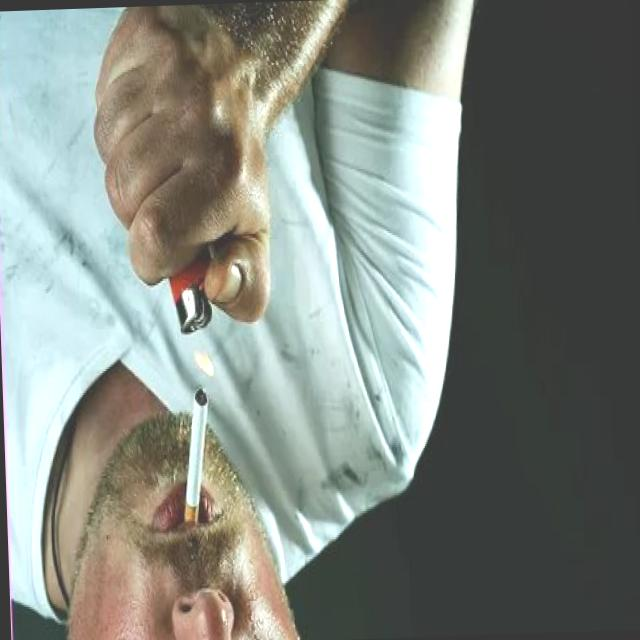smoke: (173, 379, 216, 538)
